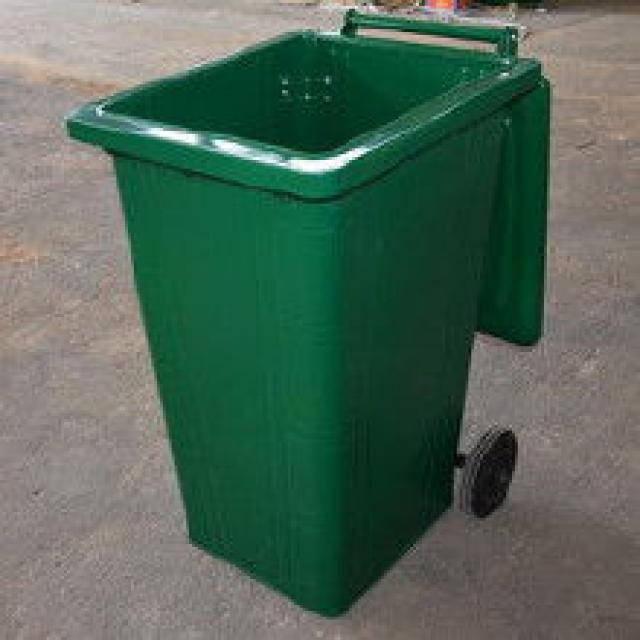garbage_bin: (61, 6, 547, 614)
